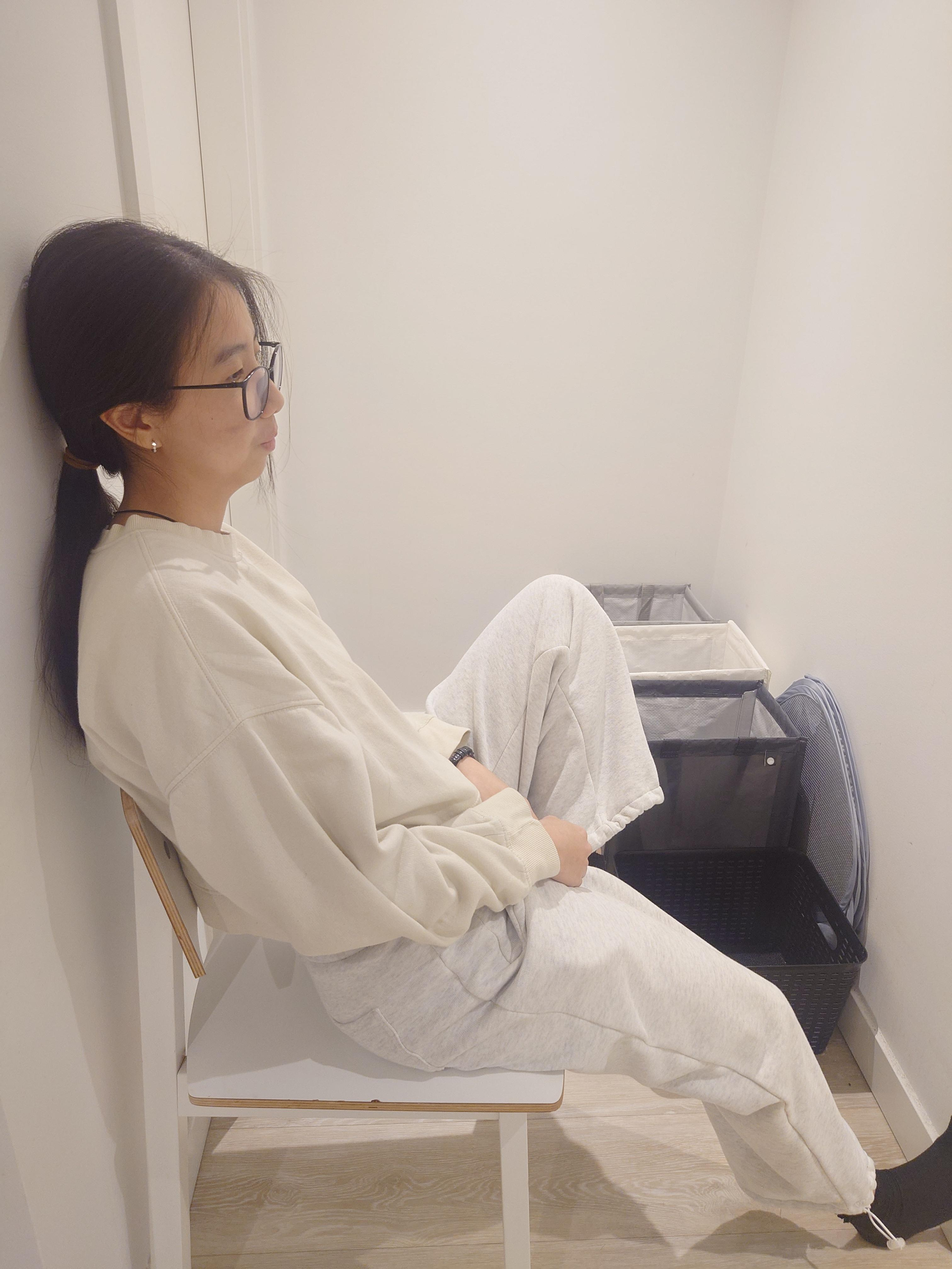BadPosture: (25, 214, 952, 1249)
